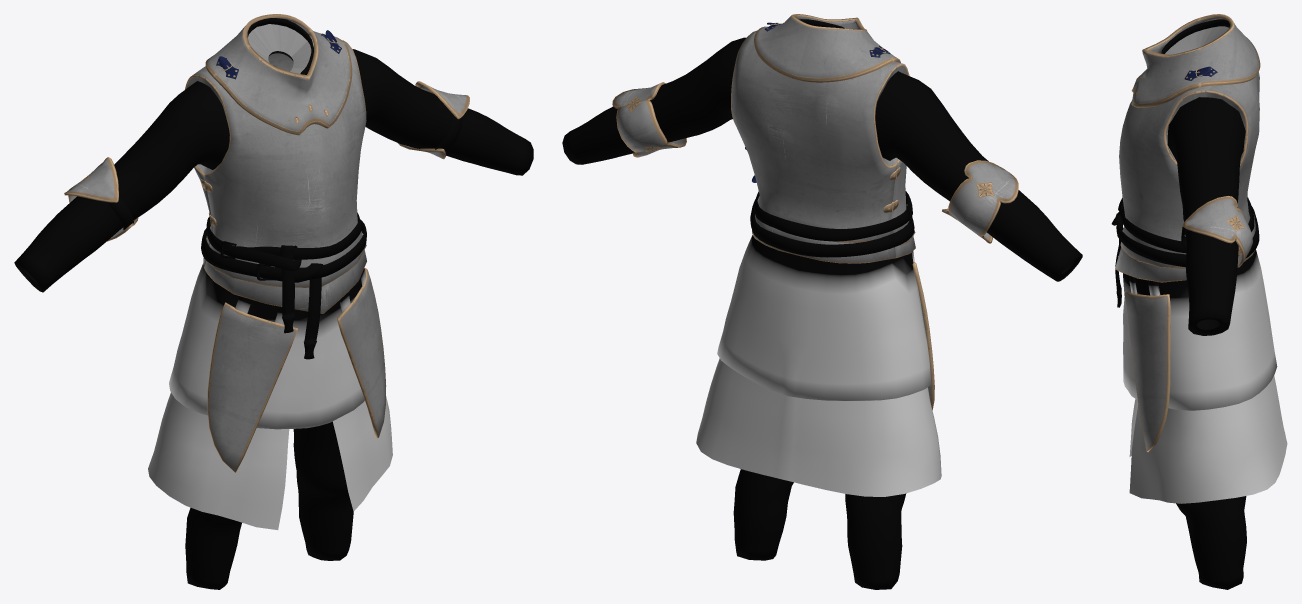
Rendered from swan_knight_armor_1b_t3.fbx.
The picture shows the model from 3 angles, left to right: view 1: azimuth 30°, elevation 25°; view 2: azimuth 150°, elevation 25°; view 3: azimuth 270°, elevation 25°; orthographic projection. The views are drawn at different scales.
Visible parts, largest first — view 1: swan_knight_armor_1b_t3.0, swan_knight_armor_1b_t3.1; view 2: swan_knight_armor_1b_t3.0, swan_knight_armor_1b_t3.1; view 3: swan_knight_armor_1b_t3.0, swan_knight_armor_1b_t3.1.
Part boxes in pixels (left/top/right/bottom): swan_knight_armor_1b_t3.0: left=14, top=18, right=533, bottom=589; swan_knight_armor_1b_t3.1: left=64, top=14, right=469, bottom=472; swan_knight_armor_1b_t3.0: left=562, top=19, right=1082, bottom=589; swan_knight_armor_1b_t3.1: left=612, top=14, right=1018, bottom=409; swan_knight_armor_1b_t3.0: left=1111, top=19, right=1287, bottom=589; swan_knight_armor_1b_t3.1: left=1115, top=14, right=1260, bottom=451.
Bounding box in the file's own units: 1.34 × 0.4125 × 1.37.
